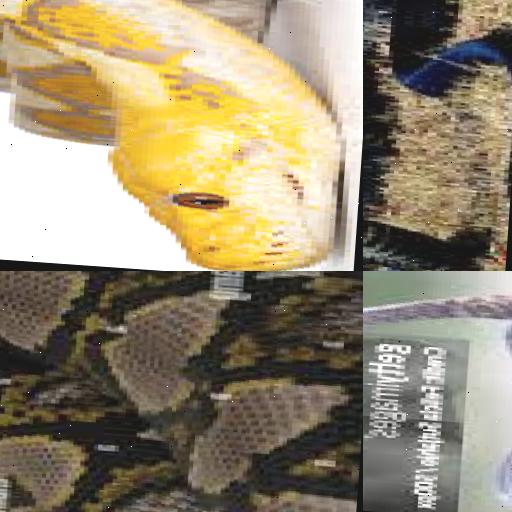snake: (0, 0, 363, 271), (363, 271, 512, 512), (0, 275, 104, 512), (363, 172, 475, 271)
